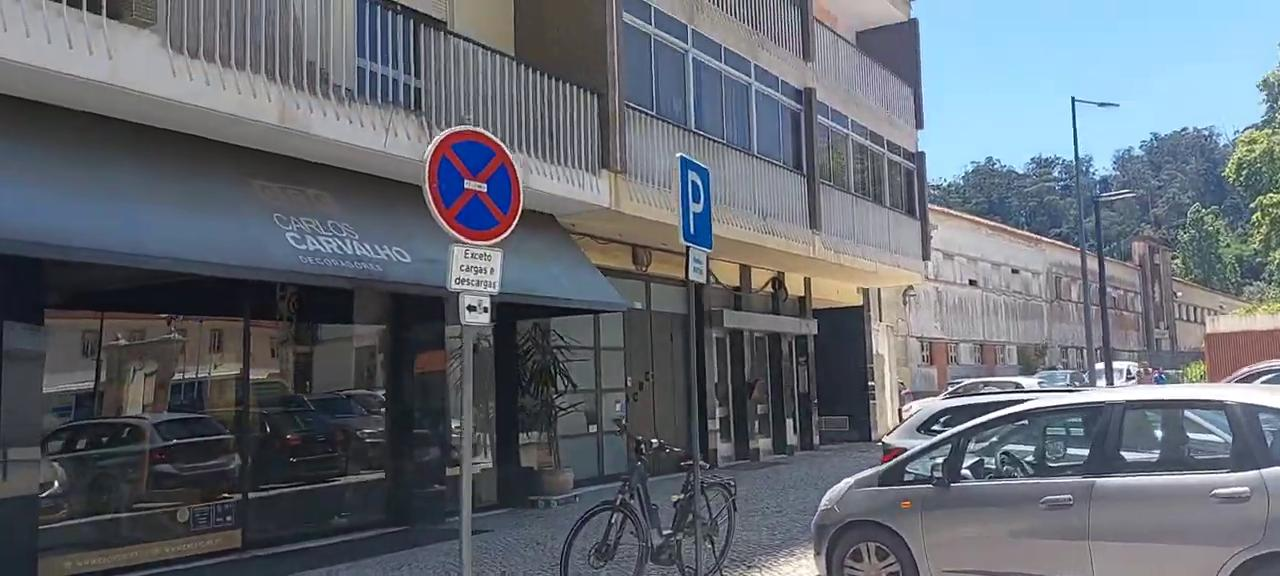Estacionamento autorizado: (676, 151, 716, 260)
paragem e estacionamento proibido: (420, 127, 529, 247)
